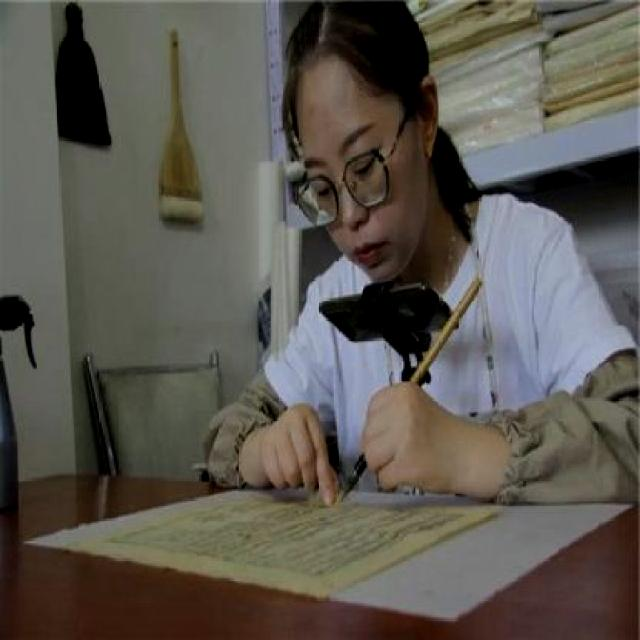face_nomask: (298, 110, 431, 284)
glasses: (291, 143, 397, 228)
hand_noglove: (358, 382, 451, 492), (263, 398, 339, 509)
head_nohelmet: (271, 2, 414, 109)
person: (171, 1, 637, 514)
